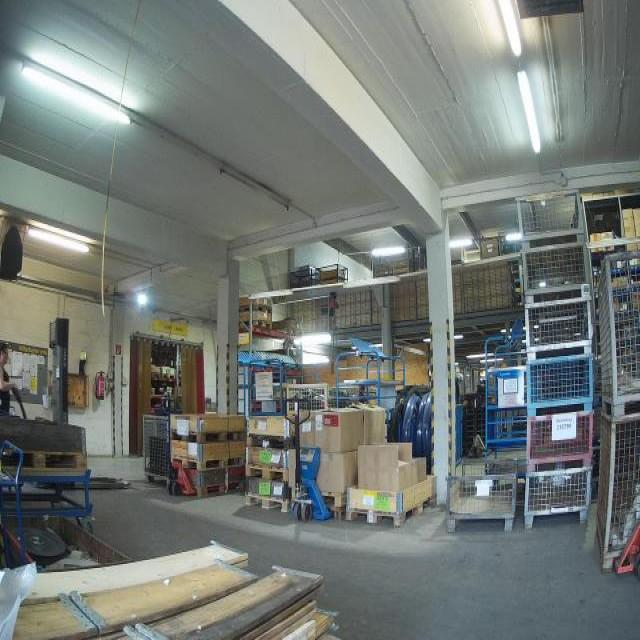pallet: (345, 492, 436, 529), (0, 448, 87, 473), (168, 426, 246, 446), (169, 453, 246, 473), (196, 477, 248, 500), (244, 462, 293, 485), (244, 493, 292, 514), (244, 431, 294, 451), (241, 319, 273, 329)
pallet_truck: (278, 395, 335, 524), (163, 427, 196, 498), (610, 517, 638, 586)
stillage: (594, 405, 638, 576), (598, 244, 640, 420), (447, 454, 515, 534), (526, 293, 595, 361), (519, 186, 589, 247), (526, 409, 595, 470), (524, 357, 598, 413), (525, 468, 591, 529), (519, 246, 592, 297), (143, 414, 171, 486)
